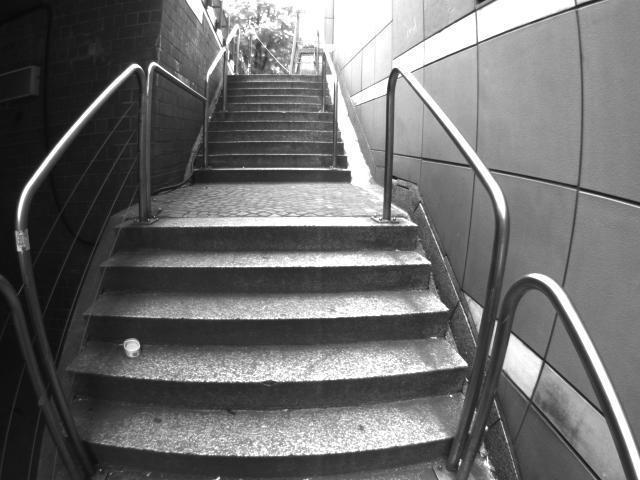Escaleras: (30, 225, 562, 479), (179, 65, 352, 175)
